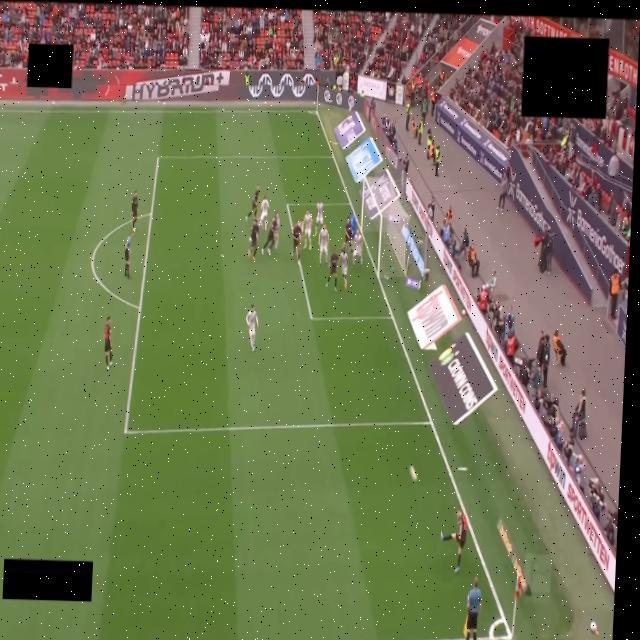ball: (409, 465, 418, 482)
player: (441, 510, 468, 573), (262, 212, 279, 254), (246, 305, 258, 351), (248, 218, 259, 261), (327, 250, 338, 291), (247, 184, 259, 221), (104, 316, 112, 370), (292, 221, 302, 261), (319, 225, 329, 265), (303, 209, 312, 250), (341, 217, 352, 250), (353, 230, 363, 266), (271, 212, 280, 249), (131, 190, 138, 231), (341, 250, 348, 290), (315, 201, 323, 236), (260, 196, 268, 229)
referee: (125, 229, 133, 278)
